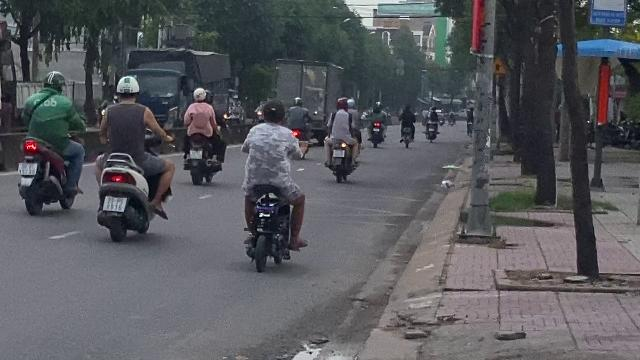helmet: (114, 74, 140, 102), (40, 70, 64, 92), (192, 87, 208, 101)
licenseplate: (103, 196, 125, 212), (18, 163, 36, 175)
motorcyclist: (90, 74, 174, 242), (236, 98, 308, 272), (15, 69, 86, 215), (180, 87, 226, 185)
nohelmet: (260, 98, 286, 124)
